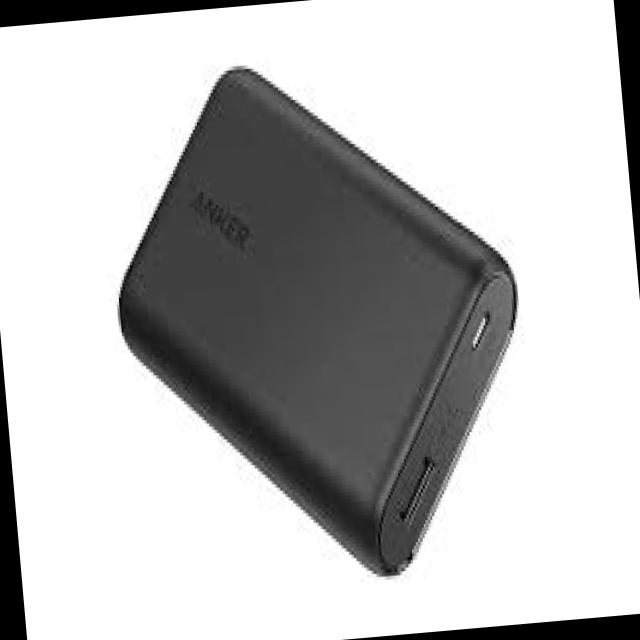power_bank: (91, 36, 542, 612)
